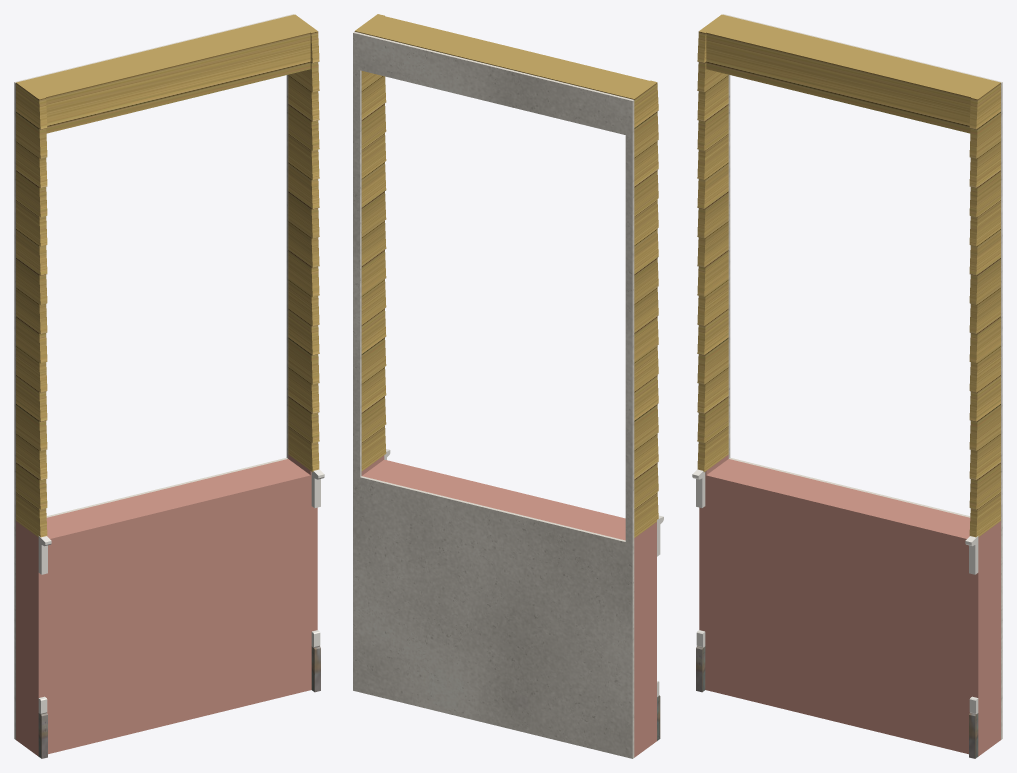
File: f_g_bay_a.glb
3 renders of one model, left to right at view 1: azimuth 30°, elevation 25°; view 2: azimuth 150°, elevation 25°; view 3: azimuth 330°, elevation 25°, orthographic.
Parts seen in each view (by area): view 1: f_g_bay_a_acc_a, f_g_bay_a_siding_a, f_g_bay_a_plaster, f_g_bay_a_trim, f_g_bay_a_plinth; view 2: f_g_bay_a_plaster, f_g_bay_a_siding_a, f_g_bay_a_acc_a; view 3: f_g_bay_a_acc_a, f_g_bay_a_siding_a, f_g_bay_a_plaster, f_g_bay_a_trim, f_g_bay_a_plinth.
Boxes of the visible parts, x1=… form: f_g_bay_a_acc_a: x1=16, y1=455, x2=317, y2=756; f_g_bay_a_siding_a: x1=16, y1=14, x2=319, y2=537; f_g_bay_a_plaster: x1=14, y1=14, x2=293, y2=739; f_g_bay_a_trim: x1=38, y1=469, x2=324, y2=713; f_g_bay_a_plinth: x1=38, y1=646, x2=320, y2=758; f_g_bay_a_plaster: x1=353, y1=31, x2=634, y2=758; f_g_bay_a_siding_a: x1=354, y1=14, x2=658, y2=537; f_g_bay_a_acc_a: x1=361, y1=455, x2=656, y2=757; f_g_bay_a_acc_a: x1=699, y1=455, x2=1000, y2=756; f_g_bay_a_siding_a: x1=697, y1=14, x2=1000, y2=537; f_g_bay_a_plaster: x1=723, y1=14, x2=1002, y2=739; f_g_bay_a_trim: x1=692, y1=469, x2=978, y2=713; f_g_bay_a_plinth: x1=696, y1=646, x2=978, y2=758.
Size of the model in its own units: 2 by 4.5 by 0.385.
Materials: 5 (3 with a texture image).
